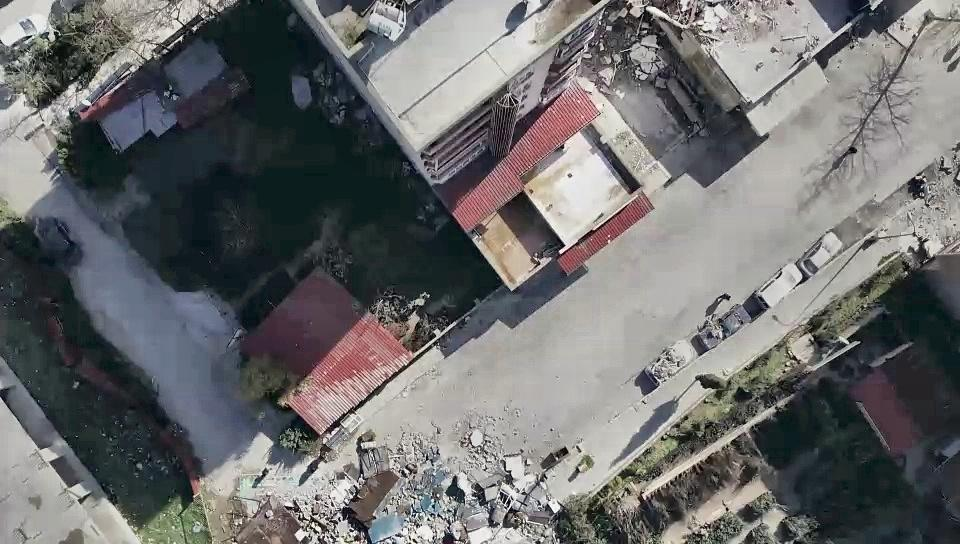kapali: (213, 294, 626, 543)
